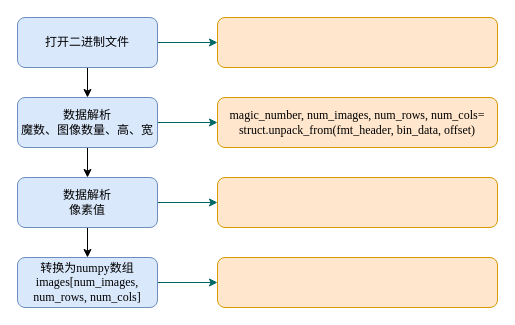
Image size: 515x325. Some labels were removed from this diagram. Here are the shapes that lost their labels. From the top down, the centre of each, then its label:
At (x=357, y=42): "bin_data=open(filename, 'rb').read()".
At (x=357, y=202): "image_data= struct.unpack_from(fmt_image, bin_data, offset)".
At (x=357, y=282): "images[i]= numpy.array( image_data ).reshape(num_rows, num_cols)".
